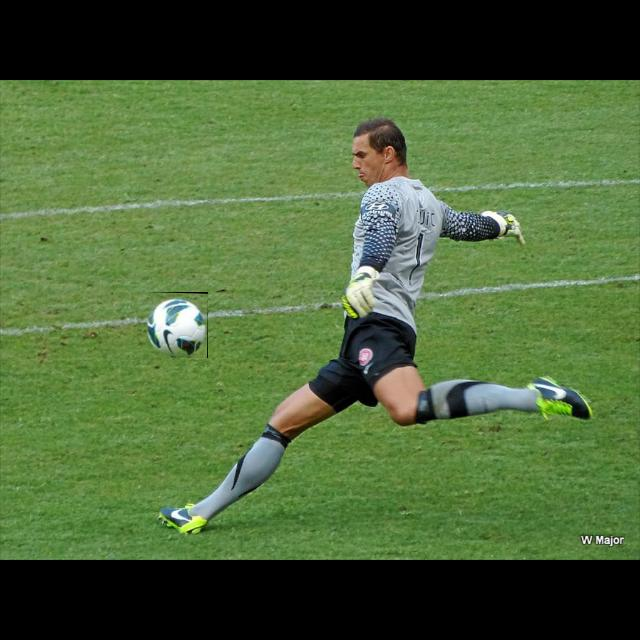Football: (146, 292, 208, 358)
